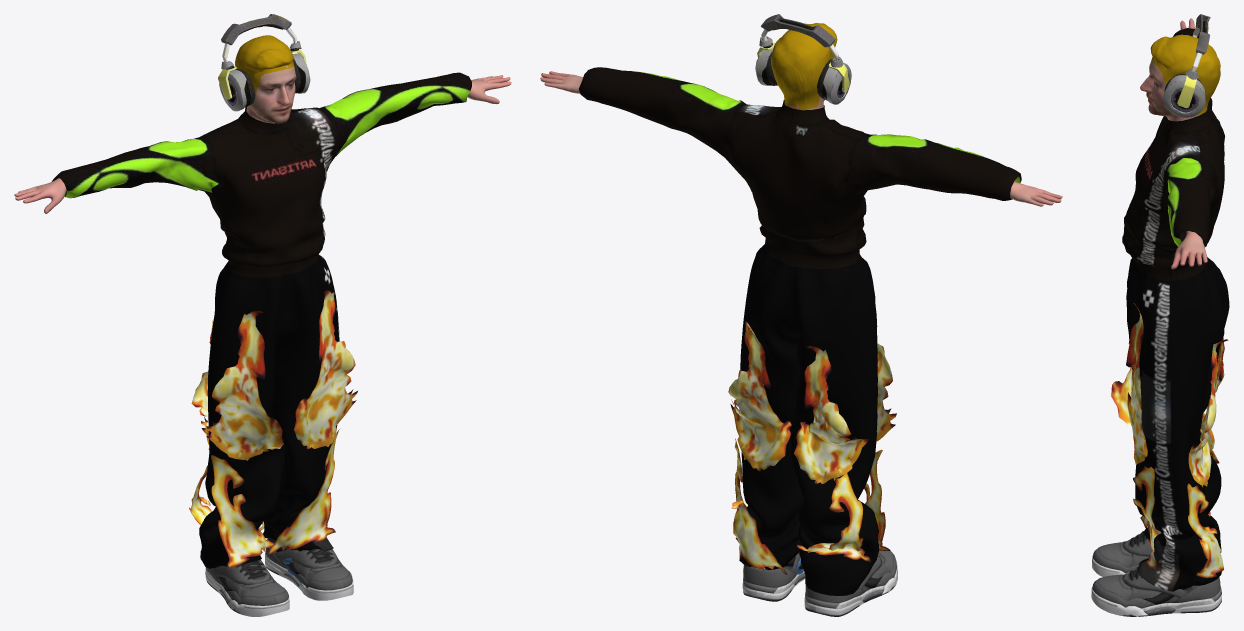
The model's file is stan.glb.
The picture shows the model from 3 angles, left to right: view 1: azimuth 30°, elevation 25°; view 2: azimuth 150°, elevation 25°; view 3: azimuth 270°, elevation 25°; orthographic projection. The views are drawn at different scales.
Parts seen in each view (by area): view 1: avaturn_look_0, avaturn_look_1, avaturn_body, avaturn_look_2, avaturn_hair_0; view 2: avaturn_look_0, avaturn_look_1, avaturn_hair_0, avaturn_look_2, avaturn_body; view 3: avaturn_look_0, avaturn_look_1, avaturn_hair_0, avaturn_look_2, avaturn_body.
Boxes of the visible parts, left/top/right/bottom form: avaturn_look_0: left=52, top=72, right=471, bottom=568; avaturn_look_1: left=205, top=538, right=353, bottom=616; avaturn_body: left=14, top=66, right=511, bottom=213; avaturn_look_2: left=218, top=14, right=310, bottom=111; avaturn_hair_0: left=235, top=35, right=294, bottom=95; avaturn_look_0: left=579, top=67, right=1021, bottom=595; avaturn_look_1: left=742, top=546, right=897, bottom=616; avaturn_hair_0: left=771, top=23, right=837, bottom=110; avaturn_look_2: left=755, top=14, right=851, bottom=104; avaturn_body: left=540, top=71, right=1062, bottom=206; avaturn_look_0: left=1111, top=28, right=1229, bottom=591; avaturn_look_1: left=1091, top=530, right=1221, bottom=616; avaturn_hair_0: left=1150, top=34, right=1220, bottom=115; avaturn_look_2: left=1163, top=14, right=1210, bottom=118; avaturn_body: left=1140, top=18, right=1207, bottom=269.
Size of the model in its own units: 0.1774 by 0.1899 by 0.042.
6 materials, 5 textured.
